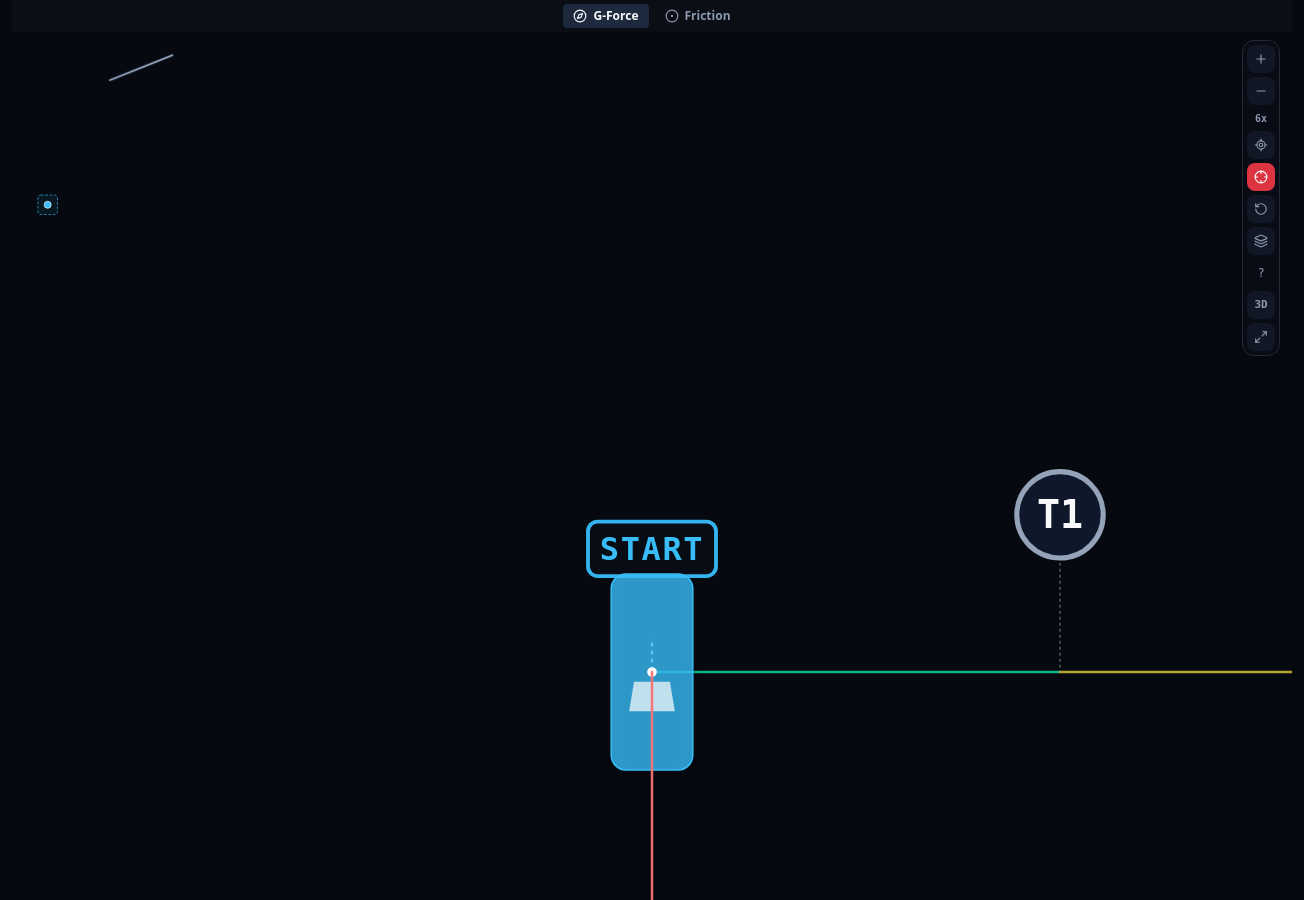
it: ReplayMapContainer › offers pedal points only in Layers and disables them without detected pedal points
expect the button "Pedal Points" is not shown: met
Step 1. Click the button named "Layers" → (1261, 241), box [1247,227,1275,255]
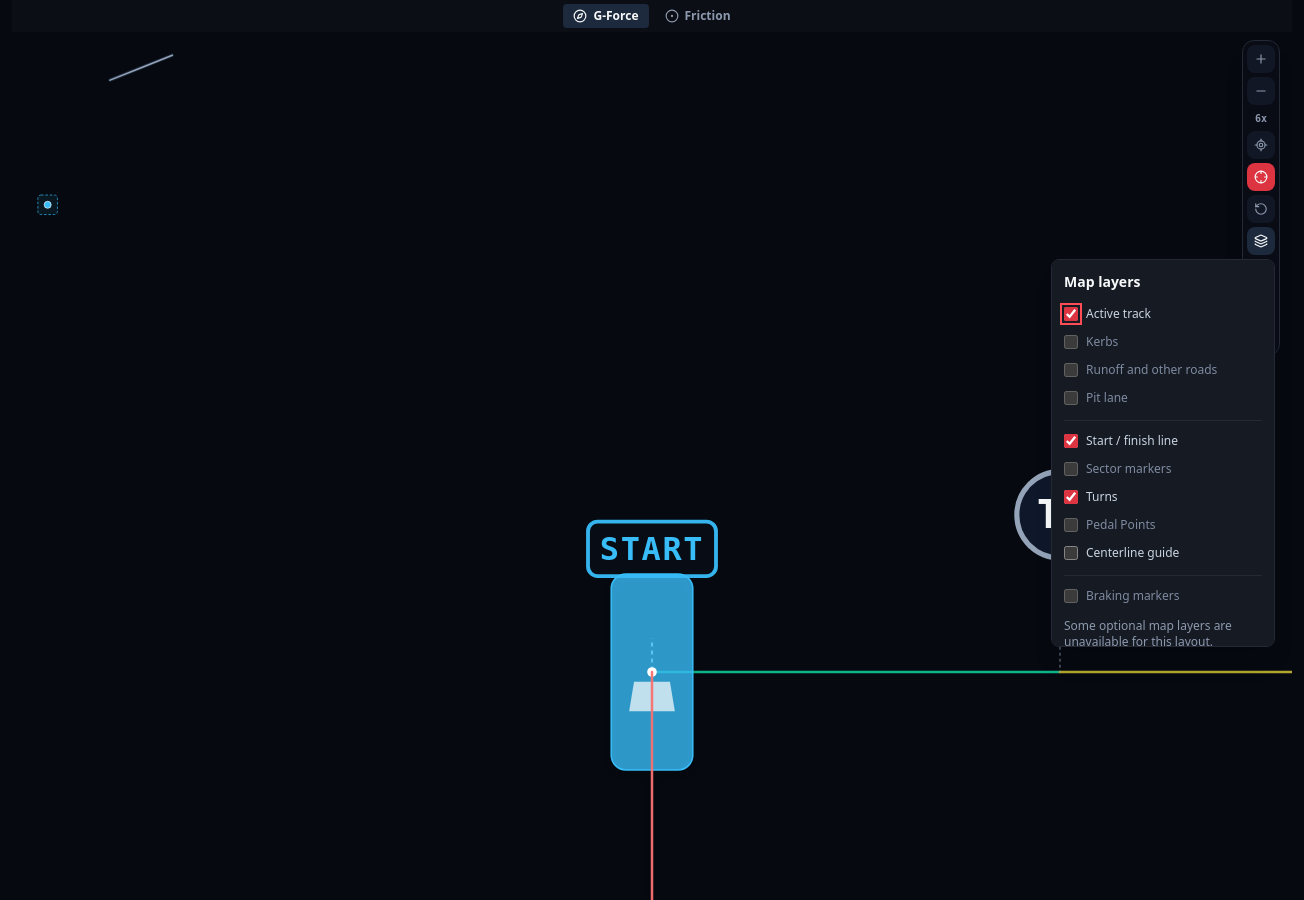
expect the checkbox labelled "Pedal Points" is disabled: met, box [1064,518,1078,532]
